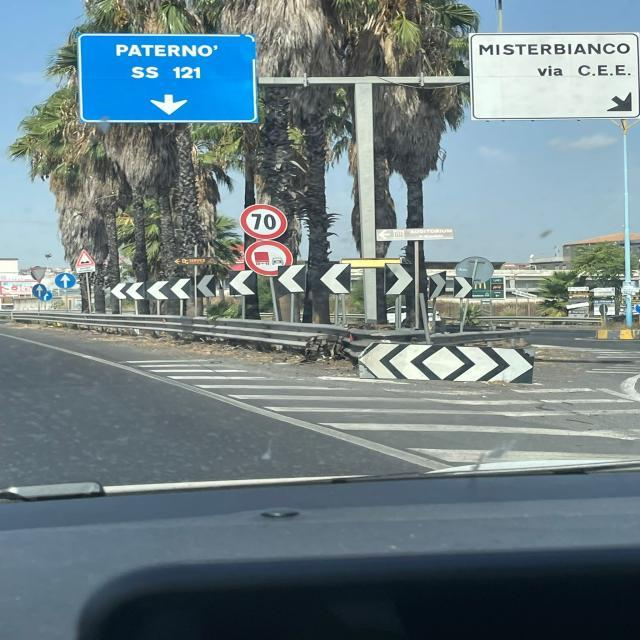forb_overtake_trucks: (244, 241, 295, 276)
forb_speed_over_70: (240, 204, 289, 241)
